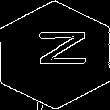N_W: (26, 34, 84, 76)
